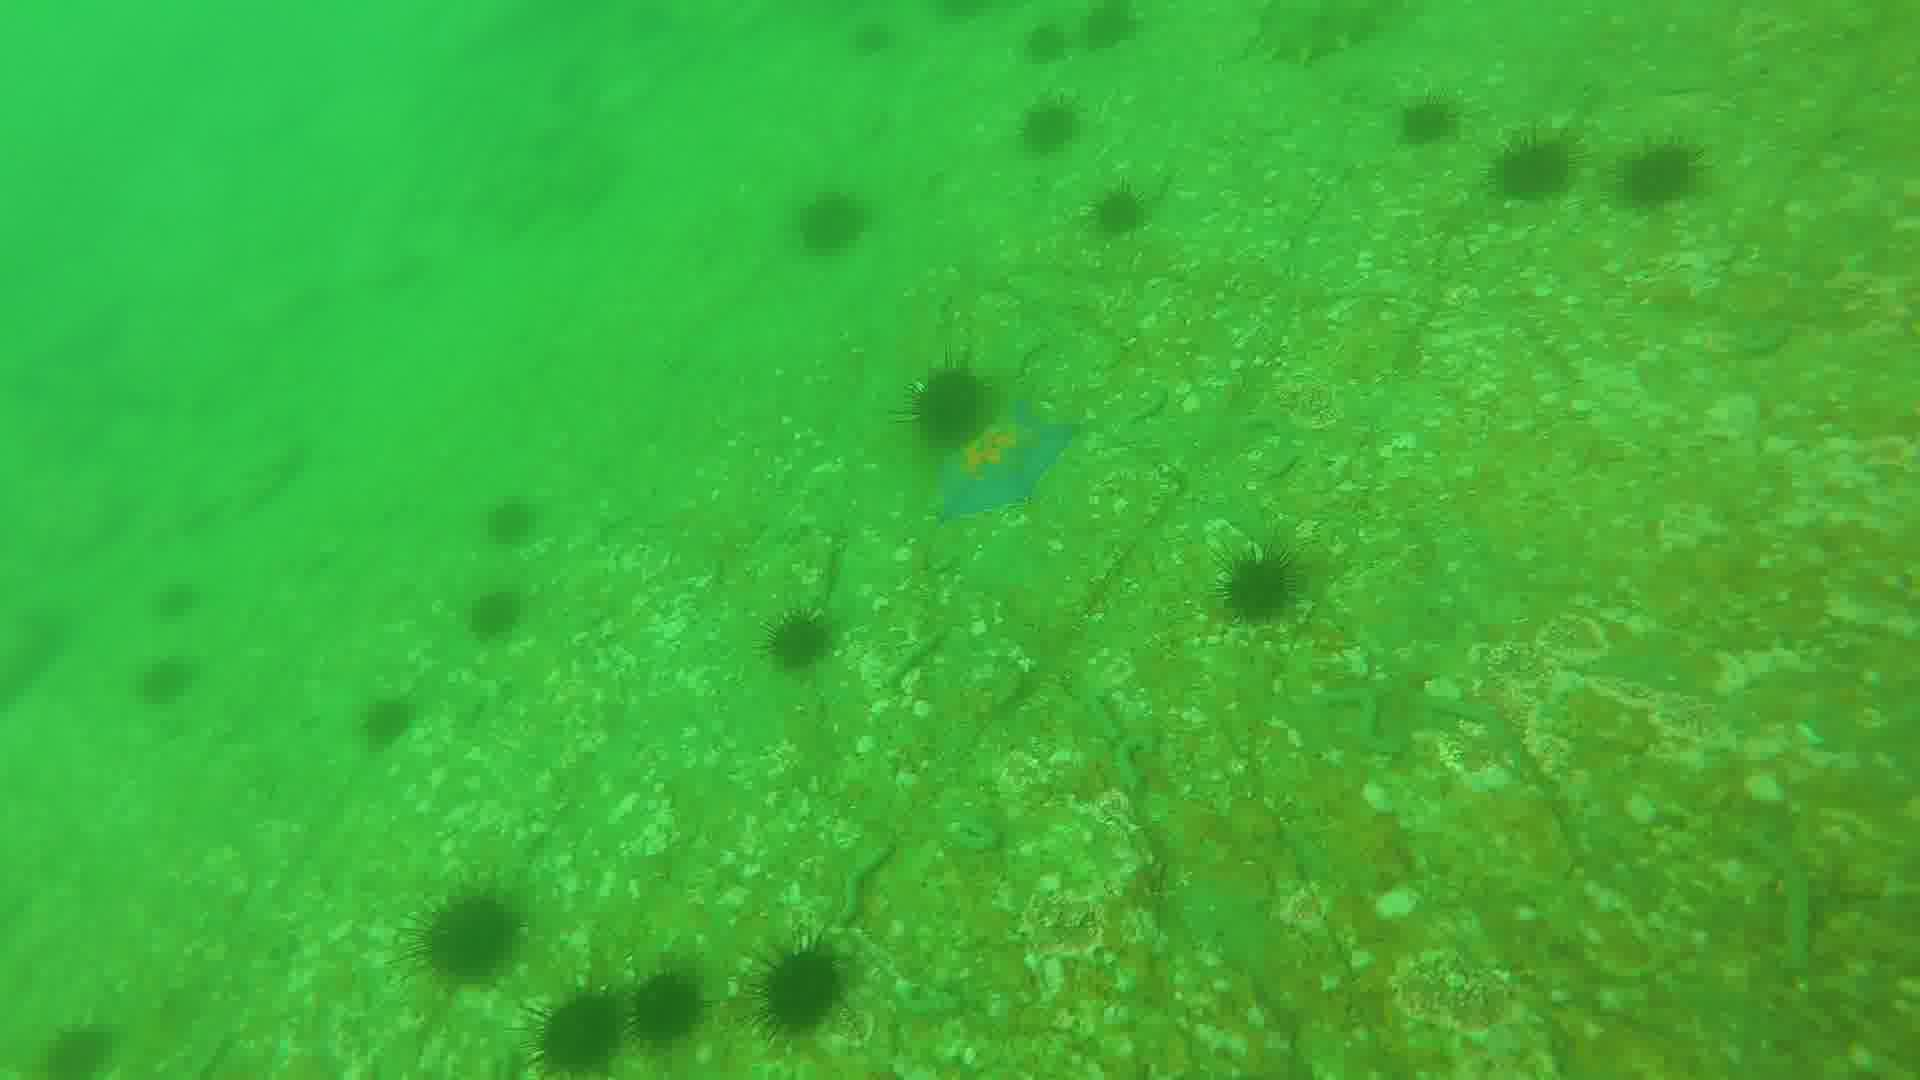echinus: (407, 885, 522, 994), (530, 988, 638, 1080), (753, 943, 849, 1036), (1495, 131, 1596, 207), (1215, 547, 1305, 626), (909, 365, 997, 444), (629, 971, 704, 1051), (1619, 144, 1704, 208), (796, 186, 869, 257), (38, 1027, 127, 1080), (766, 605, 833, 673), (1025, 96, 1081, 160), (1093, 185, 1153, 239), (1079, 1, 1141, 53), (491, 497, 546, 554), (1403, 102, 1472, 146), (150, 654, 207, 705), (361, 700, 415, 752), (471, 597, 522, 647), (1025, 22, 1079, 62), (158, 582, 207, 616)
holothurian: (1258, 1, 1408, 63)
starfish: (931, 404, 1077, 524)
